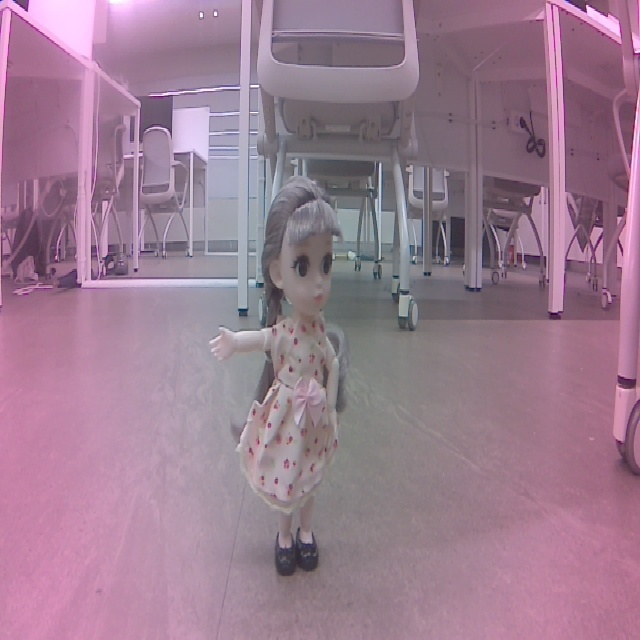장애물: (206, 172, 356, 585)
